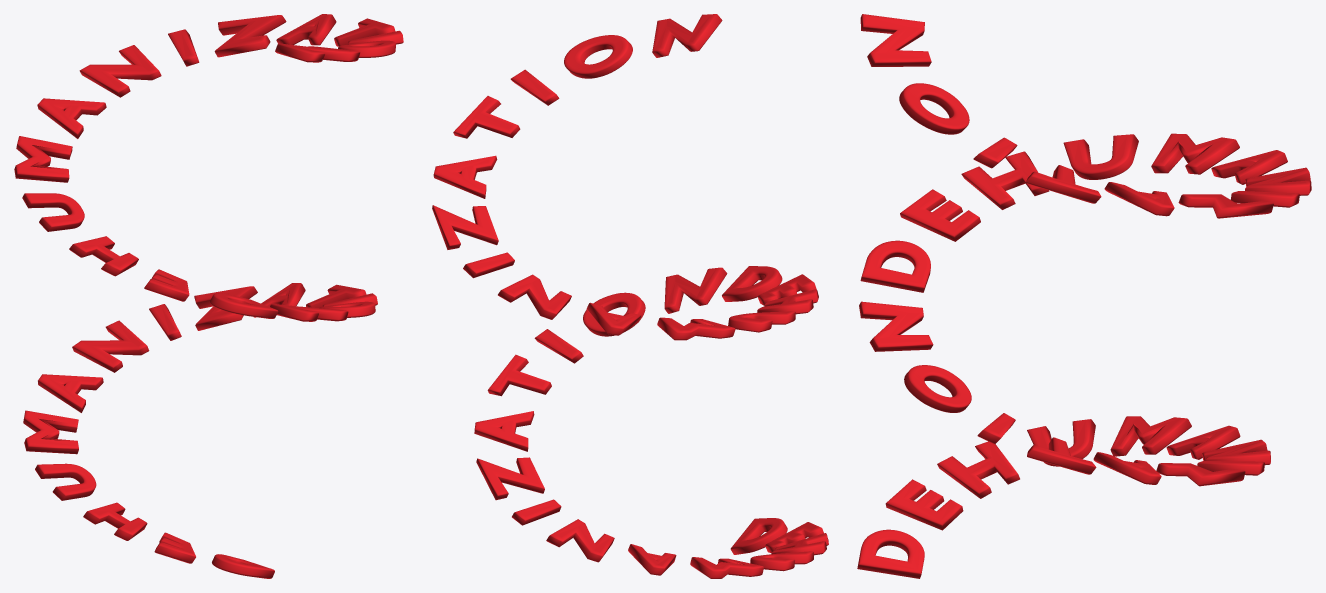
File: wort-dehumanization.glb
3 renders of one model, left to right at view 1: azimuth 30°, elevation 25°; view 2: azimuth 150°, elevation 25°; view 3: azimuth 270°, elevation 25°, orthographic. The views are drawn at different scales.
Parts seen in each view (by area): view 1: Text; view 2: Text; view 3: Text.
Part boxes in pixels (x1,y1,x2,y2): Text: (14,14,403,578); Text: (432,14,828,578); Text: (857,14,1311,578).
Size of the model in its own units: 108 by 160 by 112.
